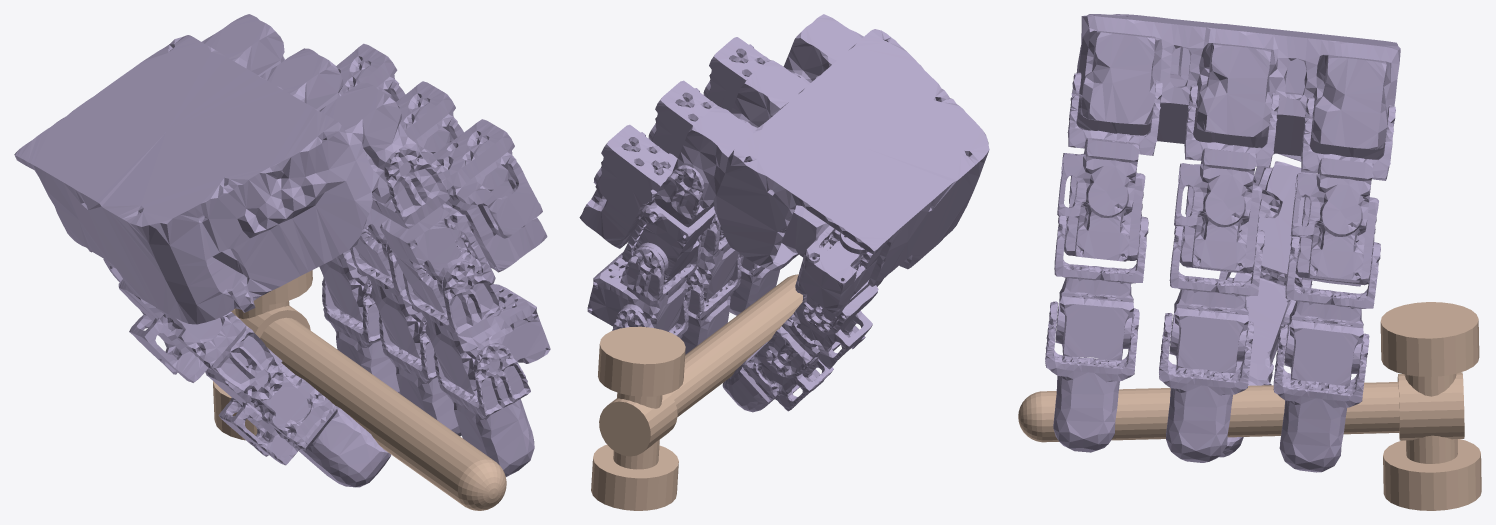
Rendered from case-07-final.glb.
3 views of the same model, side by side, from view 1: azimuth 30°, elevation 25°; view 2: azimuth 150°, elevation 25°; view 3: azimuth 270°, elevation 25° (orthographic). The views are drawn at different scales.
Visible parts, largest first — view 1: world, surface.obj; view 2: world, surface.obj; view 3: world, surface.obj.
Boxes of the visible parts, x1,y1,x2,y2 form: world: [14, 14, 550, 487]; surface.obj: [213, 270, 506, 510]; world: [579, 14, 989, 412]; surface.obj: [591, 274, 802, 510]; world: [1045, 14, 1400, 472]; surface.obj: [1018, 302, 1481, 510].
Size of the model in its own units: 0.1619 by 0.1873 by 0.1795.
